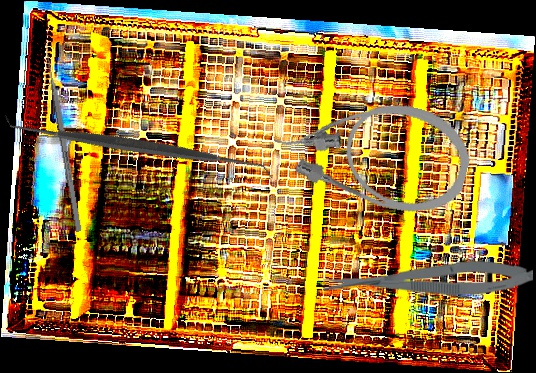Cannula: (264, 74, 480, 226)
Micro Scissor: (322, 259, 534, 298)
Pusher: (42, 42, 83, 233)
Spatula Surgical: (4, 13, 273, 280)
